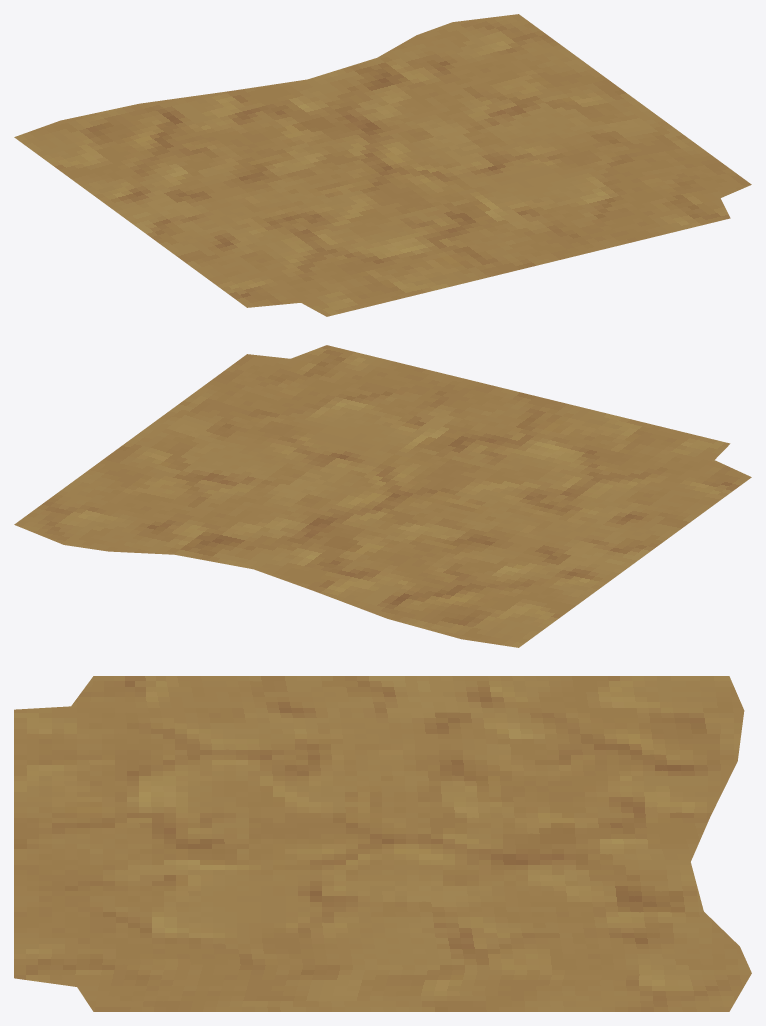
File: Dirt T.fbx
3 renders of one model, top to bottom at view 1: azimuth 30°, elevation 25°; view 2: azimuth 150°, elevation 25°; view 3: azimuth 270°, elevation 25°, orthographic. The views are drawn at different scales.
Visible parts, largest first — view 1: Dirt_T; view 2: Dirt_T; view 3: Dirt_T.
Part boxes in pixels (left/top/right/bottom): Dirt_T: left=14, top=14, right=751, bottom=316; Dirt_T: left=14, top=345, right=751, bottom=647; Dirt_T: left=14, top=676, right=751, bottom=1011.
Size of the model in its own units: 1 by 0 by 0.9284.
